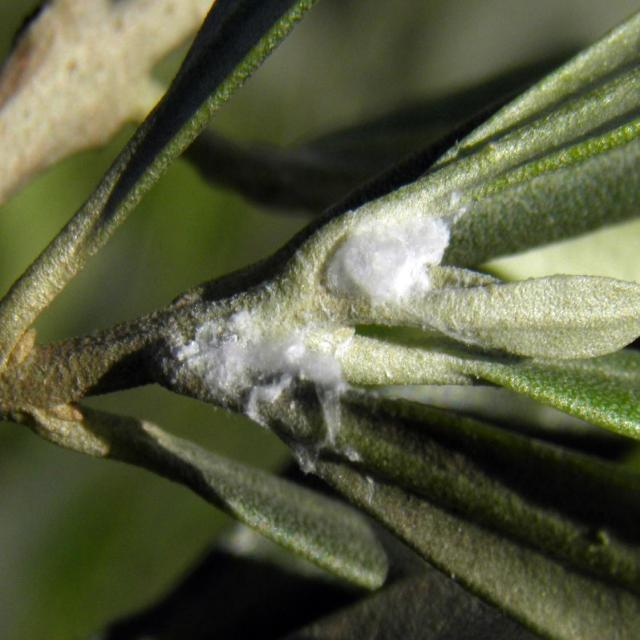Psyllid: (152, 329, 348, 472), (319, 177, 476, 336)
